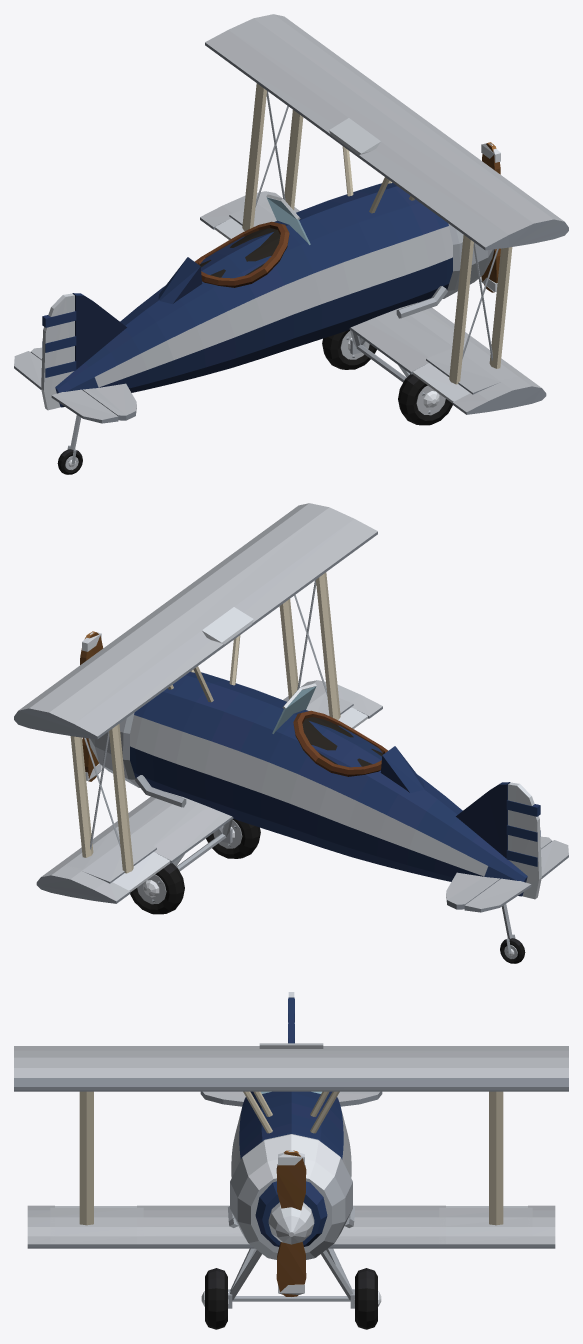
File: mt_plane_navy.glb
3 views of the same model, one above another, from view 1: azimuth 30°, elevation 25°; view 2: azimuth 150°, elevation 25°; view 3: azimuth 270°, elevation 25° (orthographic).
Parts seen in each view (by area): view 1: base, rudder_m, elevator_m, wheelR_m, wheelL_m, aileronR_m, prop_m; view 2: base, rudder_m, elevator_m, wheelL_m, wheelR_m, aileronL_m, prop_m; view 3: base, prop_m, wheelL_m, wheelR_m.
Boxes of the visible parts, x1,y1,x2,y2 form: base: (30, 14, 568, 464); rudder_m: (41, 293, 76, 410); elevator_m: (14, 351, 118, 423); wheelR_m: (398, 374, 452, 425); wheelL_m: (322, 330, 376, 369); aileronR_m: (412, 363, 470, 403); prop_m: (481, 142, 500, 292); base: (14, 503, 552, 953); rudder_m: (506, 782, 541, 899); elevator_m: (464, 840, 568, 912); wheelL_m: (130, 863, 184, 914); wheelR_m: (206, 819, 260, 858); aileronL_m: (112, 852, 170, 892); prop_m: (80, 631, 103, 781); base: (14, 997, 568, 1308); prop_m: (268, 1150, 314, 1296); wheelL_m: (354, 1268, 381, 1329); wheelR_m: (201, 1268, 228, 1329).
Bounding box in the file's own units: 1.18 × 0.659 × 1.22.
